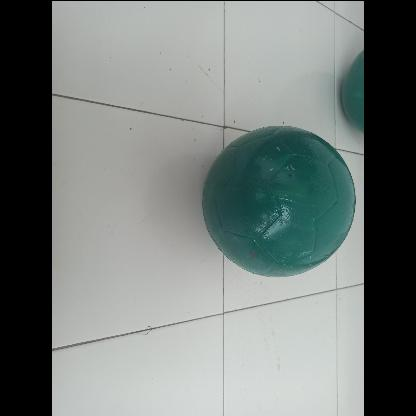green_ball: (204, 125, 356, 277)
